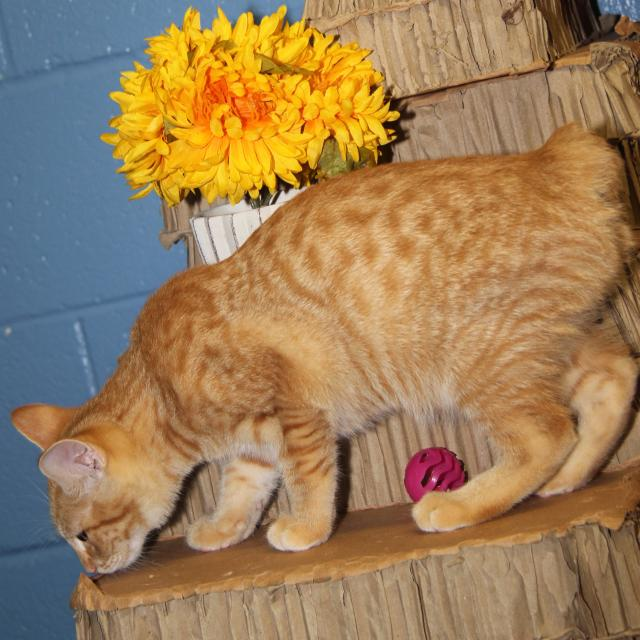American Bobtail: (6, 114, 640, 584)
